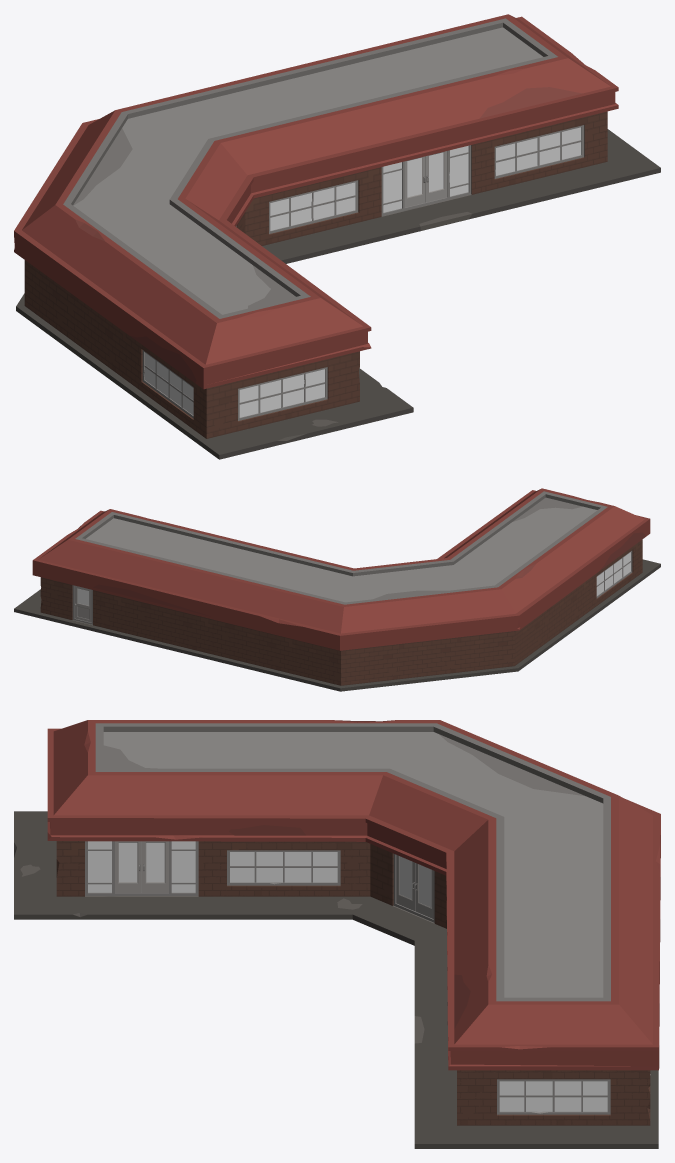
The model's file is SM_Bldg_City_Shop_Big_03.fbx.
3 views of the same model, one above another, from view 1: azimuth 30°, elevation 25°; view 2: azimuth 150°, elevation 25°; view 3: azimuth 270°, elevation 25° (orthographic). The views are drawn at different scales.
Parts seen in each view (by area): view 1: SM_Bldg_City_Shop_Big_03, SM_Bldg_City_Shop_Big_03_Glass; view 2: SM_Bldg_City_Shop_Big_03, SM_Bldg_City_Shop_Big_03_Glass; view 3: SM_Bldg_City_Shop_Big_03, SM_Bldg_City_Shop_Big_03_Glass.
Boxes of the visible parts, left/top/right/bottom form: SM_Bldg_City_Shop_Big_03: left=14, top=14, right=660, bottom=459; SM_Bldg_City_Shop_Big_03_Glass: left=145, top=127, right=581, bottom=417; SM_Bldg_City_Shop_Big_03: left=14, top=488, right=660, bottom=691; SM_Bldg_City_Shop_Big_03_Glass: left=596, top=552, right=630, bottom=595; SM_Bldg_City_Shop_Big_03: left=14, top=720, right=660, bottom=1148; SM_Bldg_City_Shop_Big_03_Glass: left=88, top=841, right=607, bottom=1111.
Bounding box in the file's own units: 2778 × 440 × 2278.
